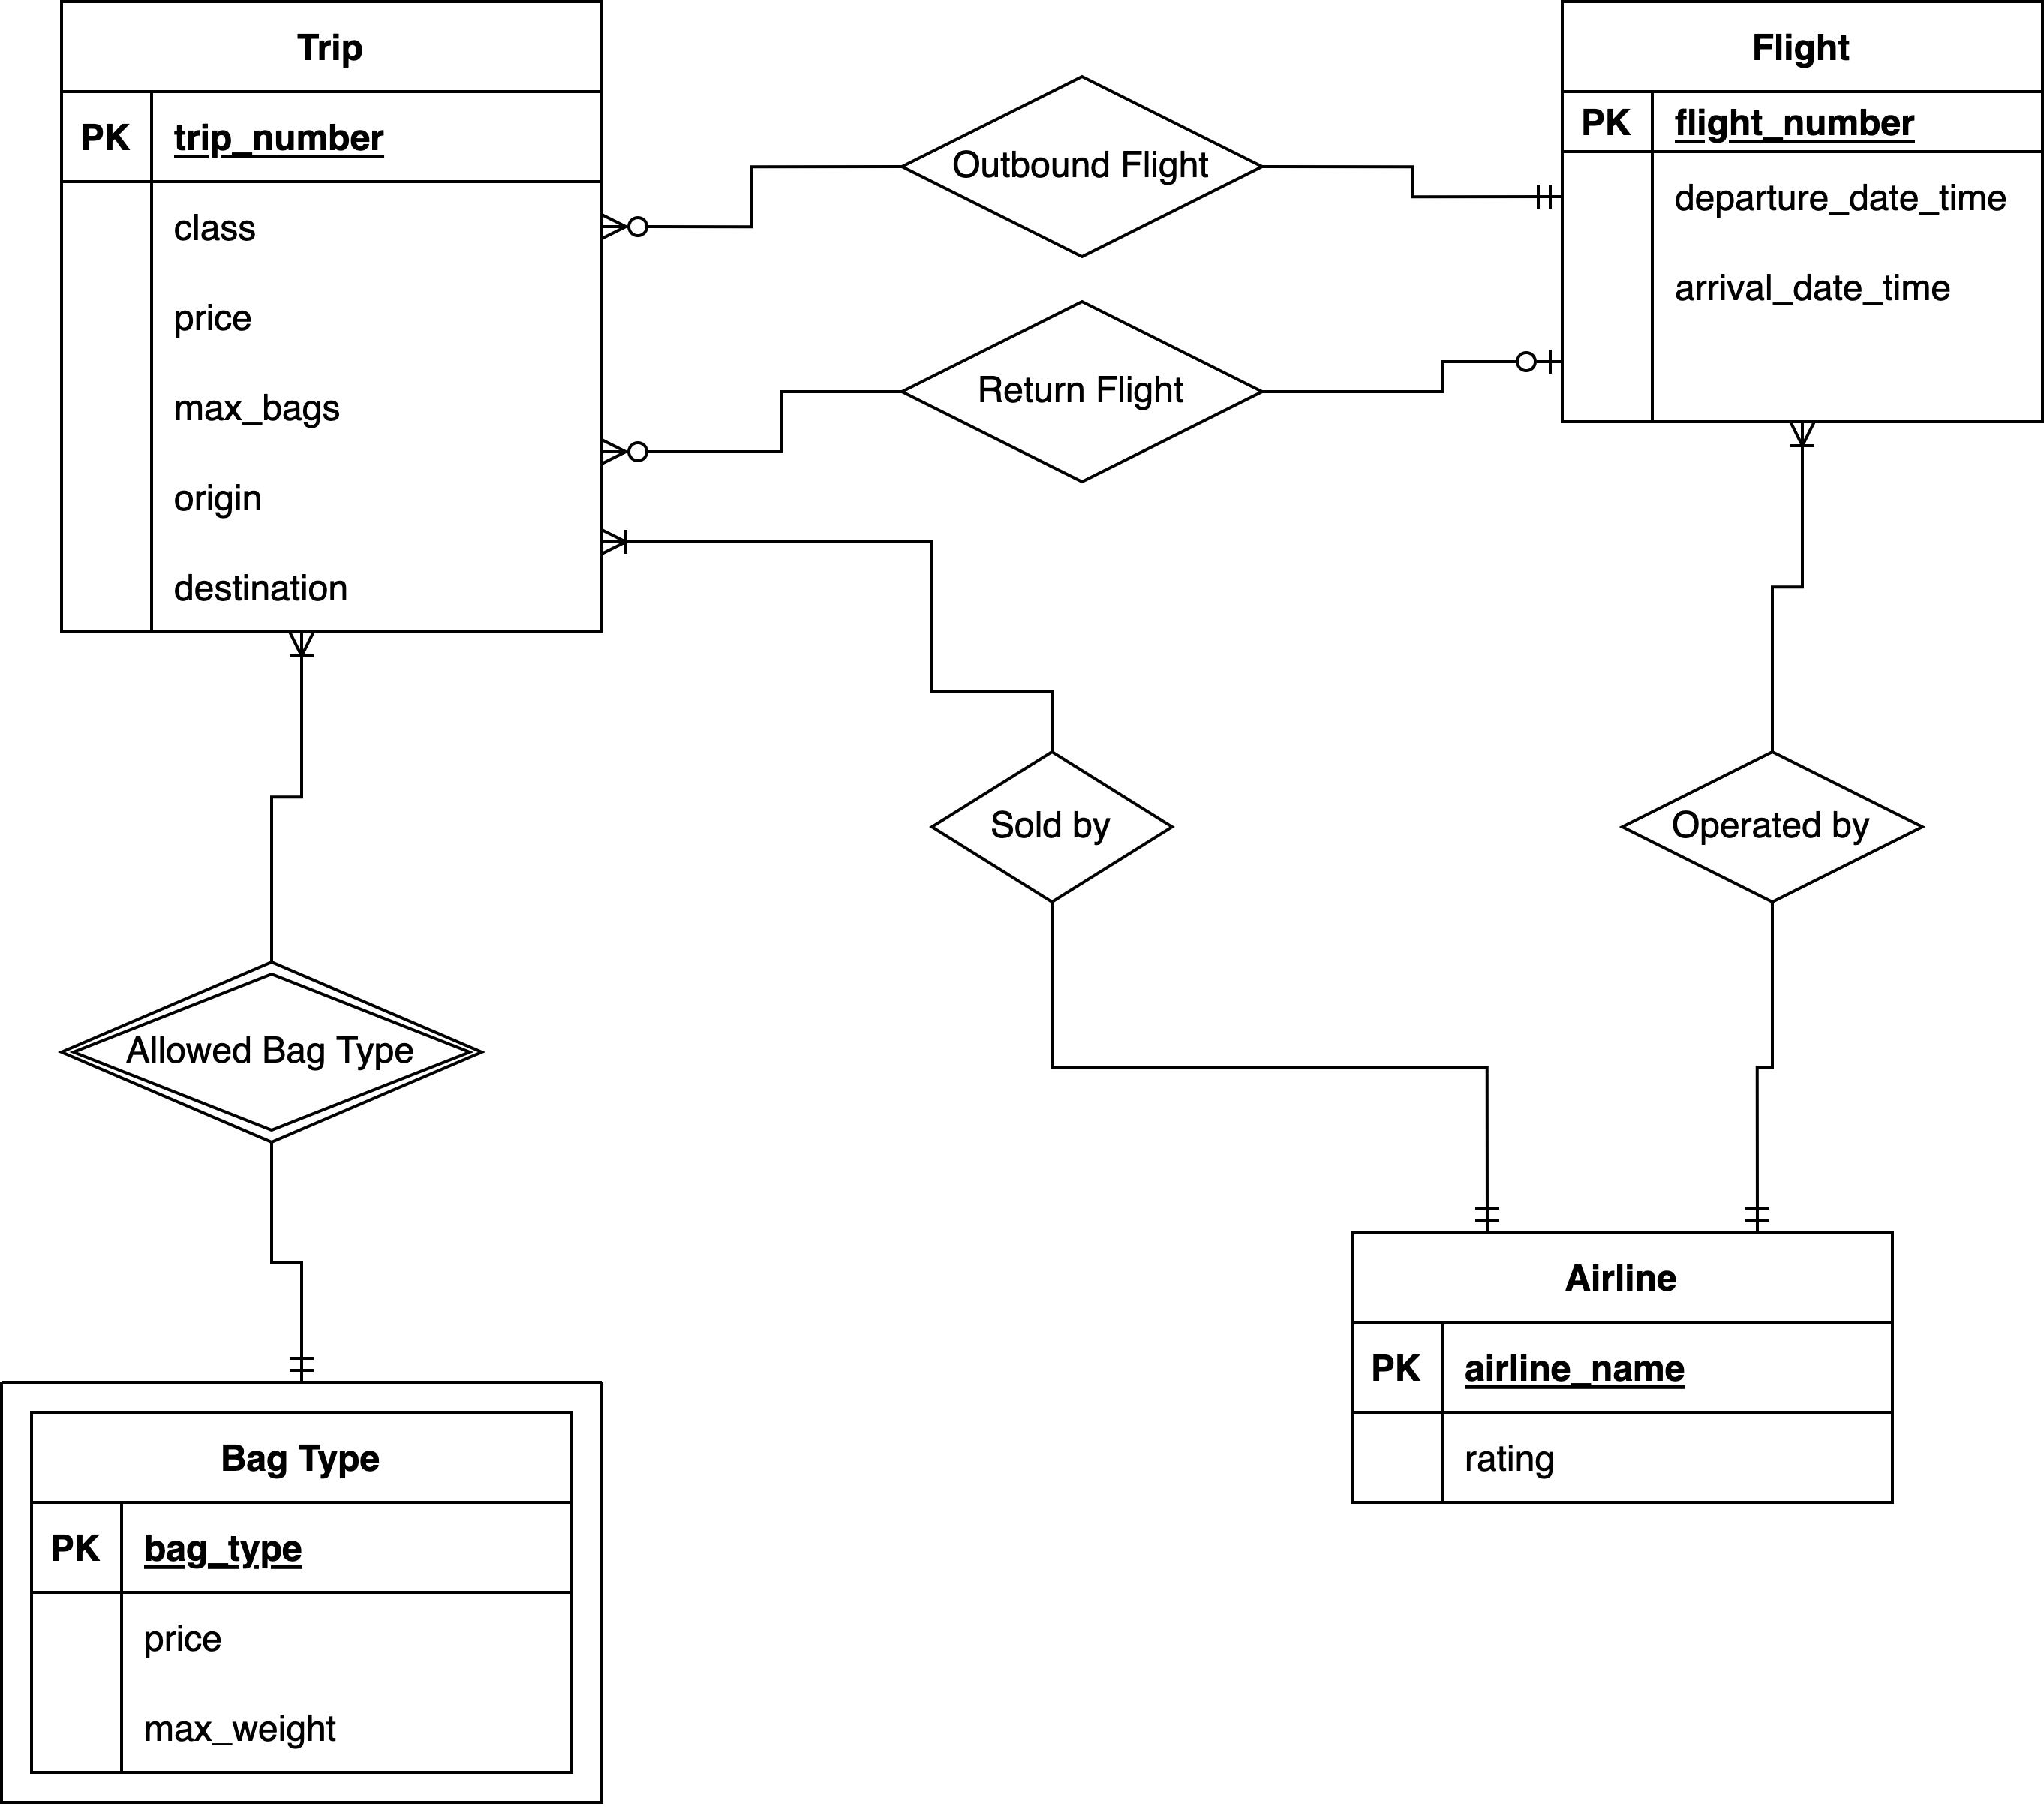entity: (58, 0, 607, 640), (1557, 0, 2044, 424), (1346, 1233, 1899, 1509)
relationship: (900, 80, 1259, 258), (909, 302, 1254, 485), (1617, 755, 1920, 905), (928, 755, 1170, 895)
weakentity: (0, 1376, 609, 1807)
weakrelationship: (61, 963, 481, 1146)
